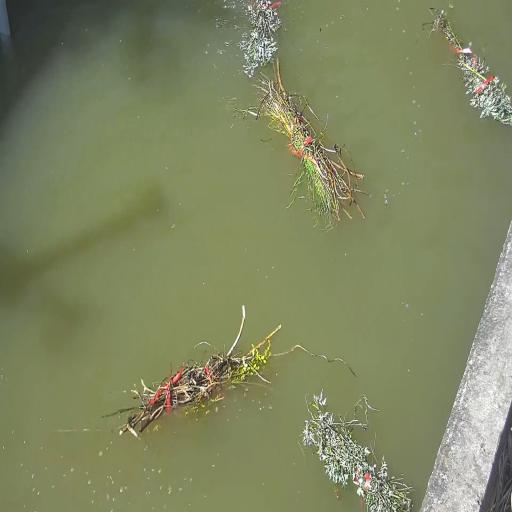twig: (102, 307, 280, 438), (239, 57, 364, 225), (302, 389, 412, 512), (422, 9, 512, 125), (238, 0, 281, 77), (273, 344, 356, 376)
